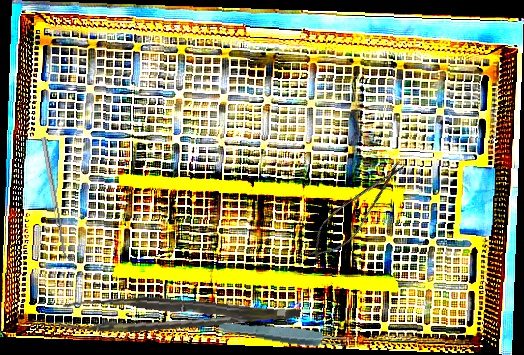Micro Scissor: (300, 150, 414, 270)
Spatula Surgical: (41, 136, 73, 262)
Tissue Forceps: (61, 288, 301, 349), (217, 317, 353, 353)
